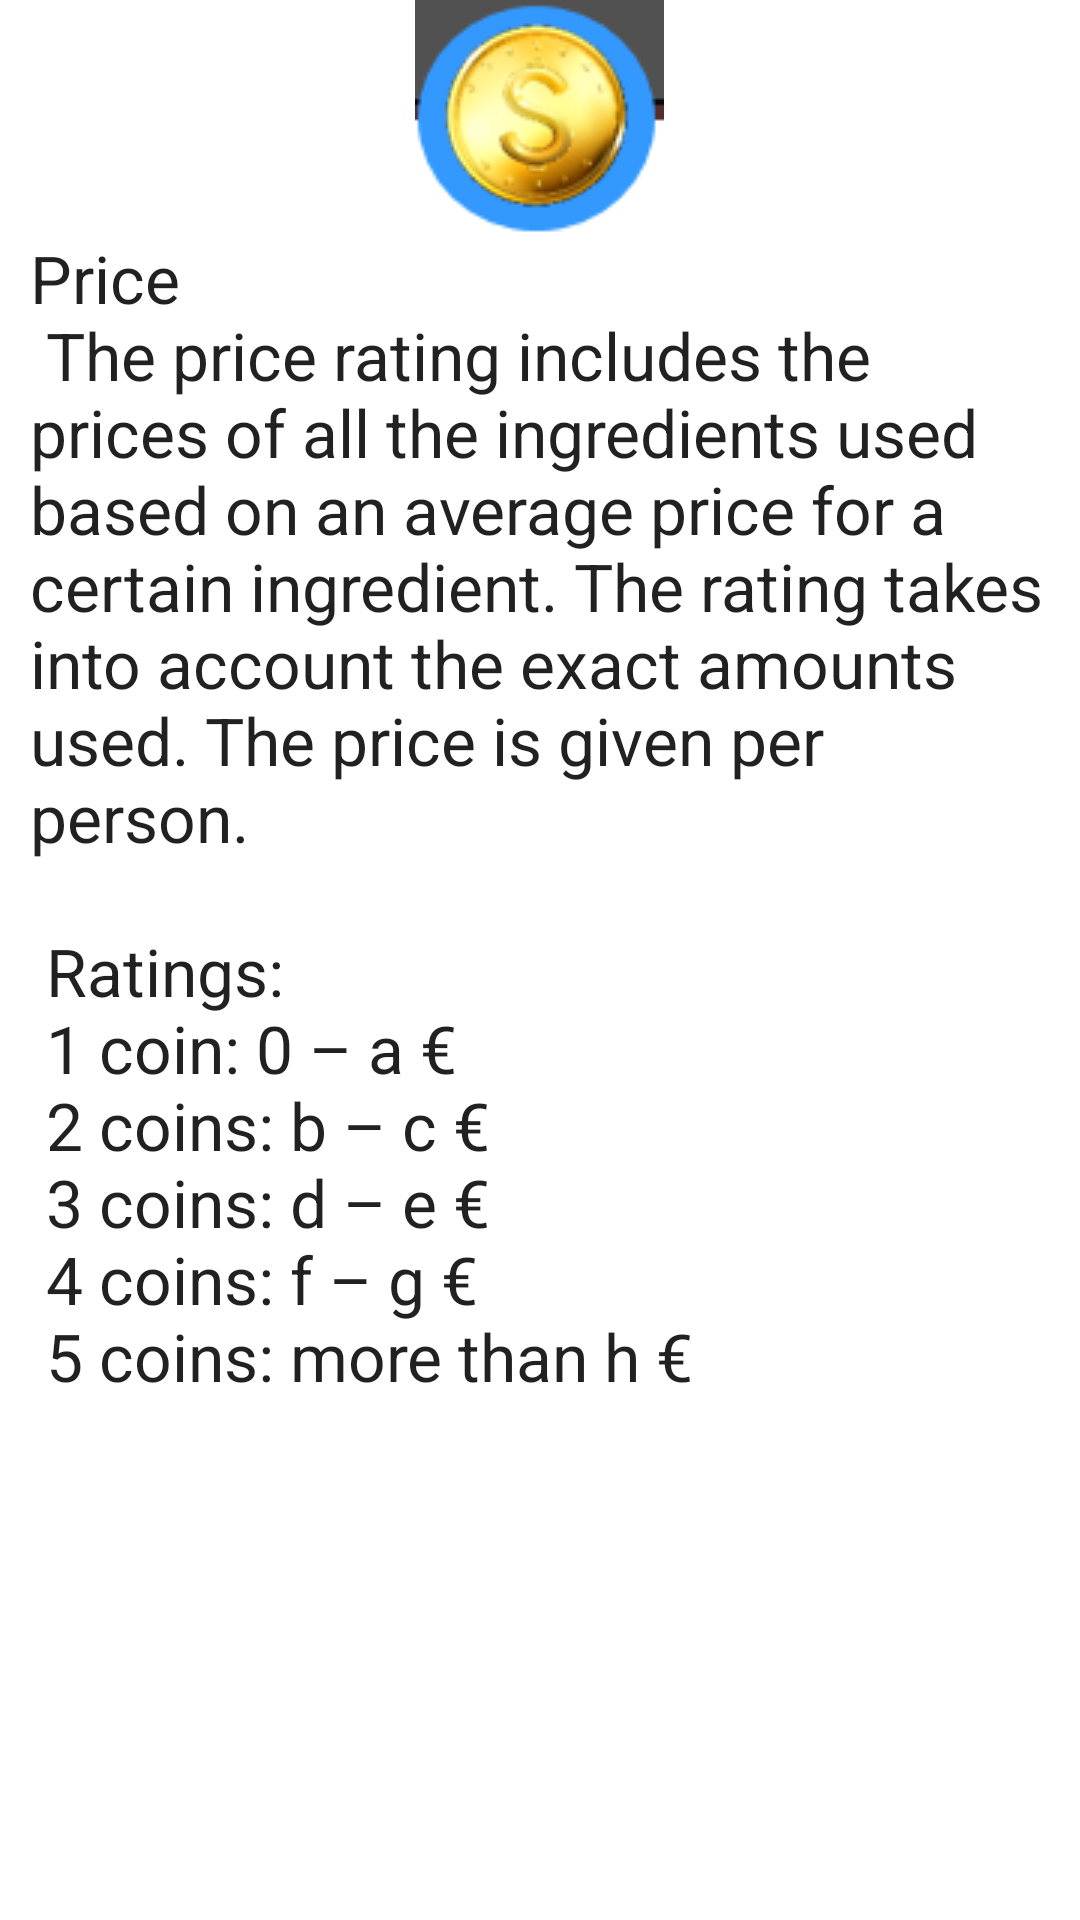

Icons on this 1080px×1920px Android screen, each with its box as (left=x1, top=y1, right=x2, bottom=y2):
money: (left=415, top=0, right=664, bottom=232)
